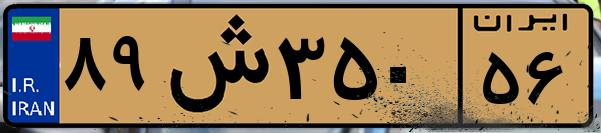0: (385, 28, 445, 110)
3: (270, 28, 330, 110)
5: (330, 28, 385, 110), (475, 38, 525, 113)
6: (525, 38, 570, 115)
8: (57, 26, 110, 100)
9: (110, 28, 158, 98)
ش: (158, 12, 270, 120)
